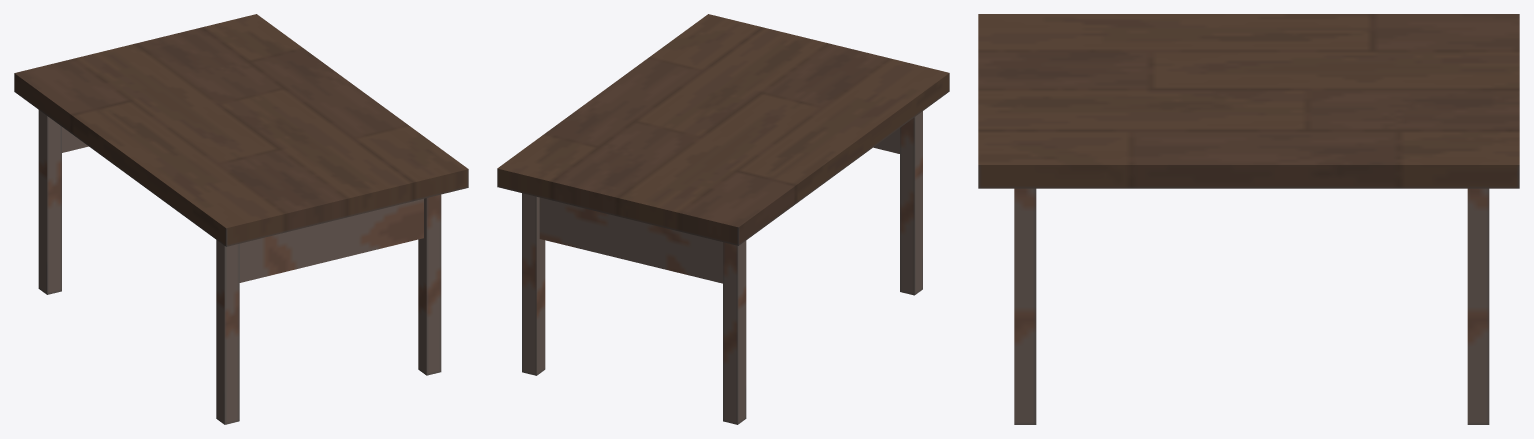
The model's file is obj_table.fbx.
3 views of the same model, side by side, from view 1: azimuth 30°, elevation 25°; view 2: azimuth 150°, elevation 25°; view 3: azimuth 270°, elevation 25° (orthographic). The views are drawn at different scales.
Parts seen in each view (by area): view 1: obj_table; view 2: obj_table; view 3: obj_table.
Boxes of the visible parts, box(x1,y1,x2,y2) form: obj_table: box(14, 14, 468, 424); obj_table: box(497, 14, 949, 424); obj_table: box(978, 14, 1519, 424).
Size of the model in its own units: 96.97 by 80.31 by 147.
